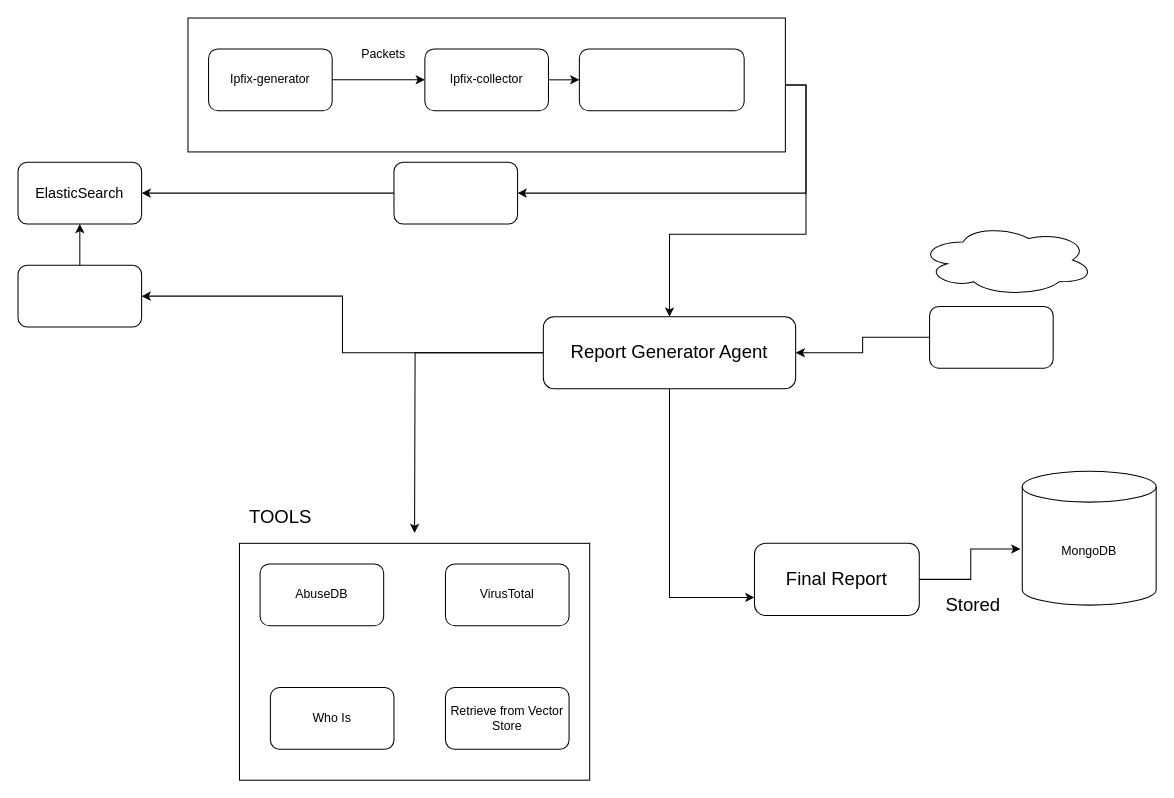
Image size: 1174x798. Some labels were removed from this diagram. Each missing label, with the centre of its shape:
ElasticSearch MCP SERVER: [79,295]
Filebeat: [455,192]
Kafka Message Queue: [661,79]
LLM ( Gemini ): [991,336]
Model Agent's Brain: [1006,259]
